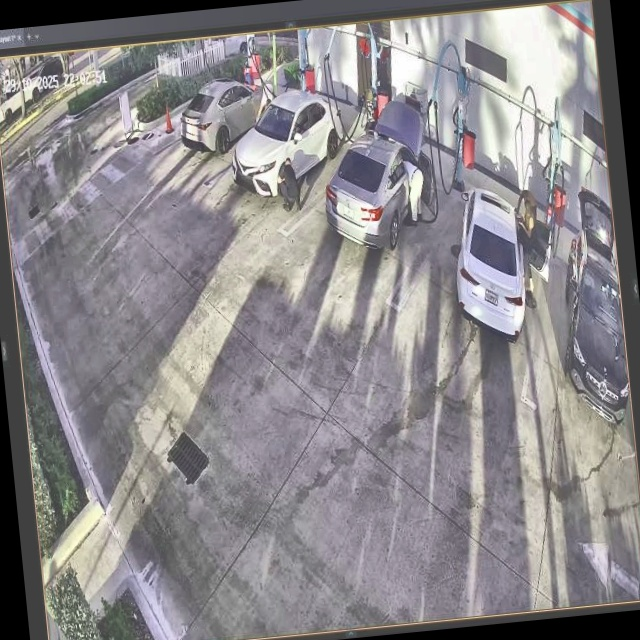Car: (316, 99, 435, 249), (227, 86, 349, 202), (451, 181, 532, 346), (175, 73, 280, 153)
